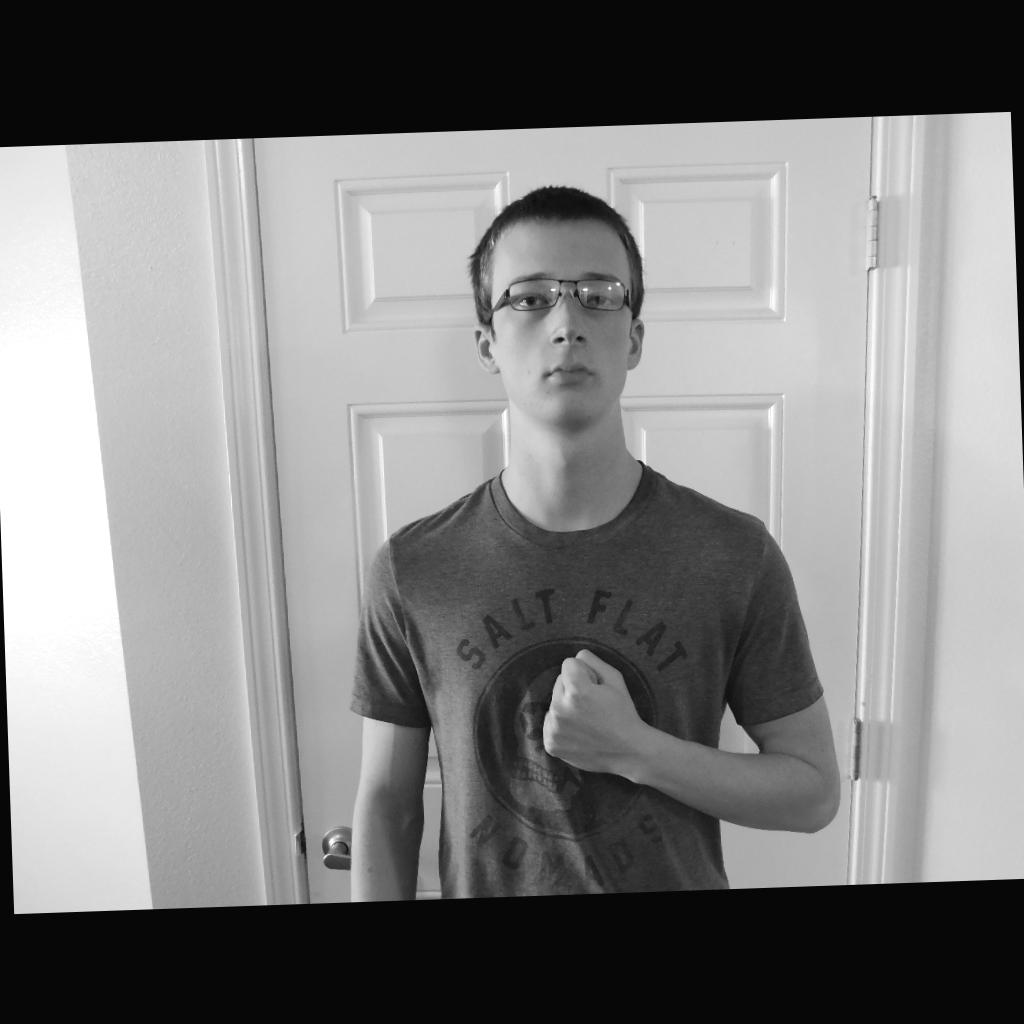sorry: (542, 646, 640, 774)
